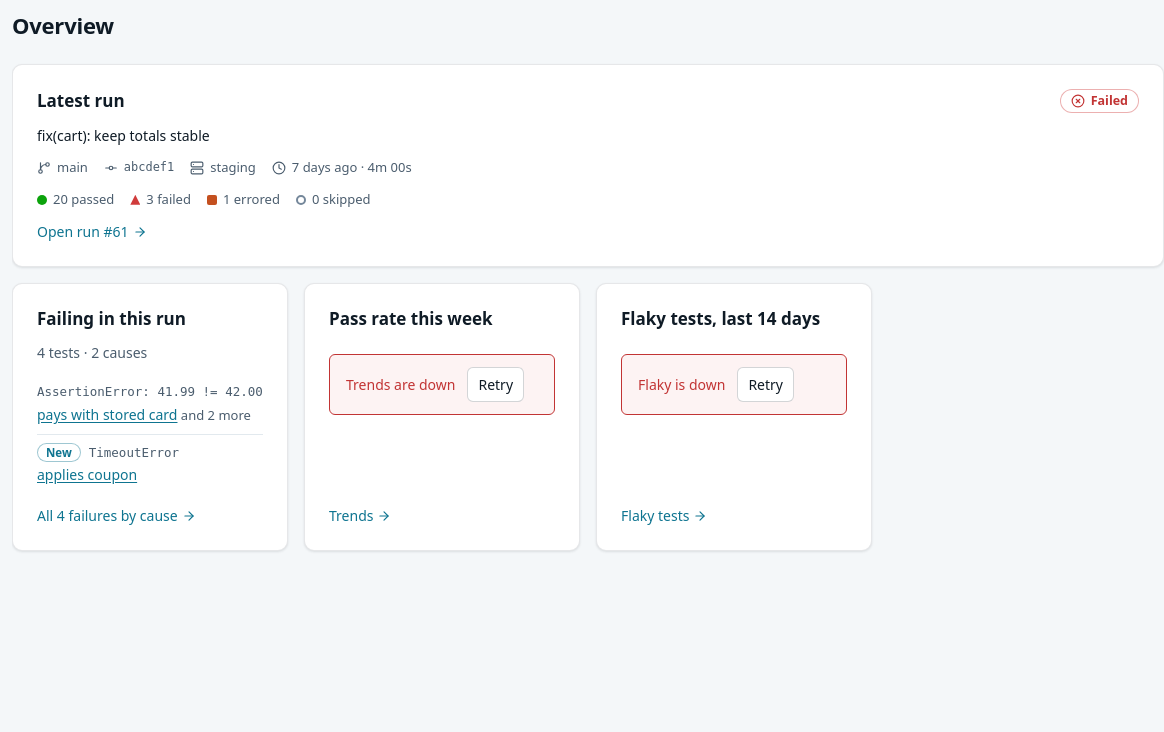
Test: a card whose query fails shows the error with Retry, not a blank card
Expected: the message "Trends are down Retry" is shown, [329, 354, 555, 415]
Expected: the message "Flaky is down Retry" is shown, [621, 354, 847, 415]
Click the button "Retry" next to "Trends are down" at coordinates (496, 385), box [468, 367, 524, 402]
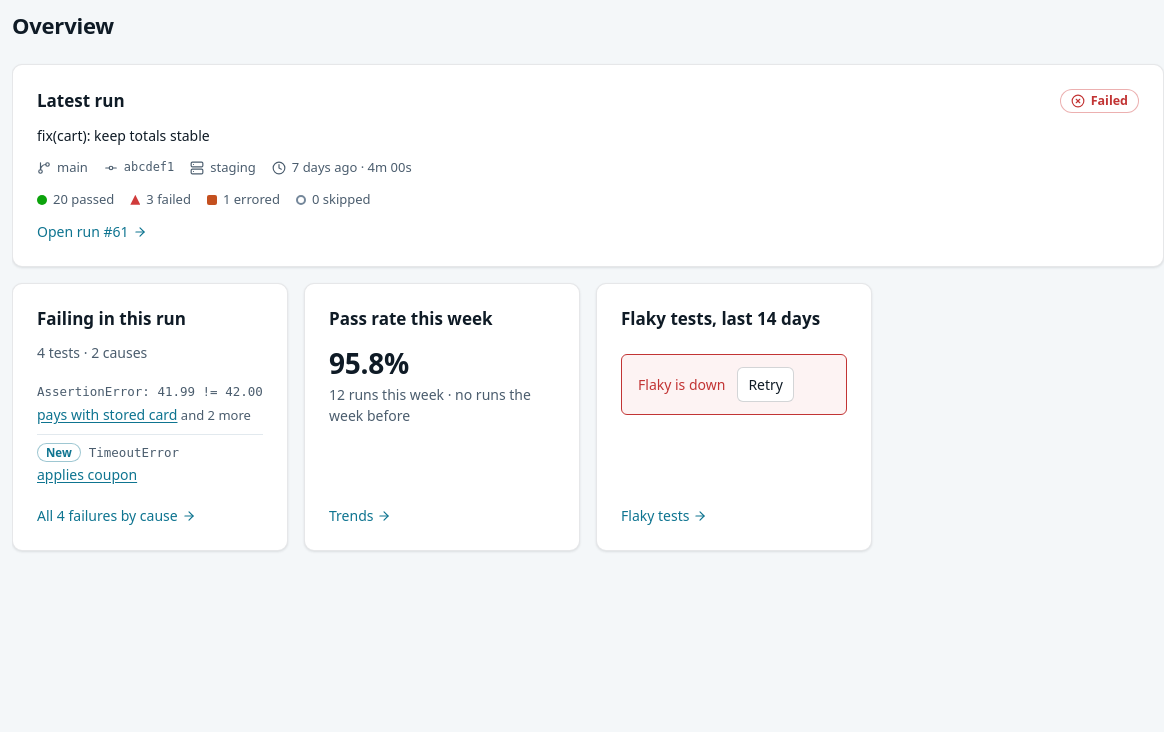
Now the text "95.8%" is shown, box [329, 344, 409, 382]
